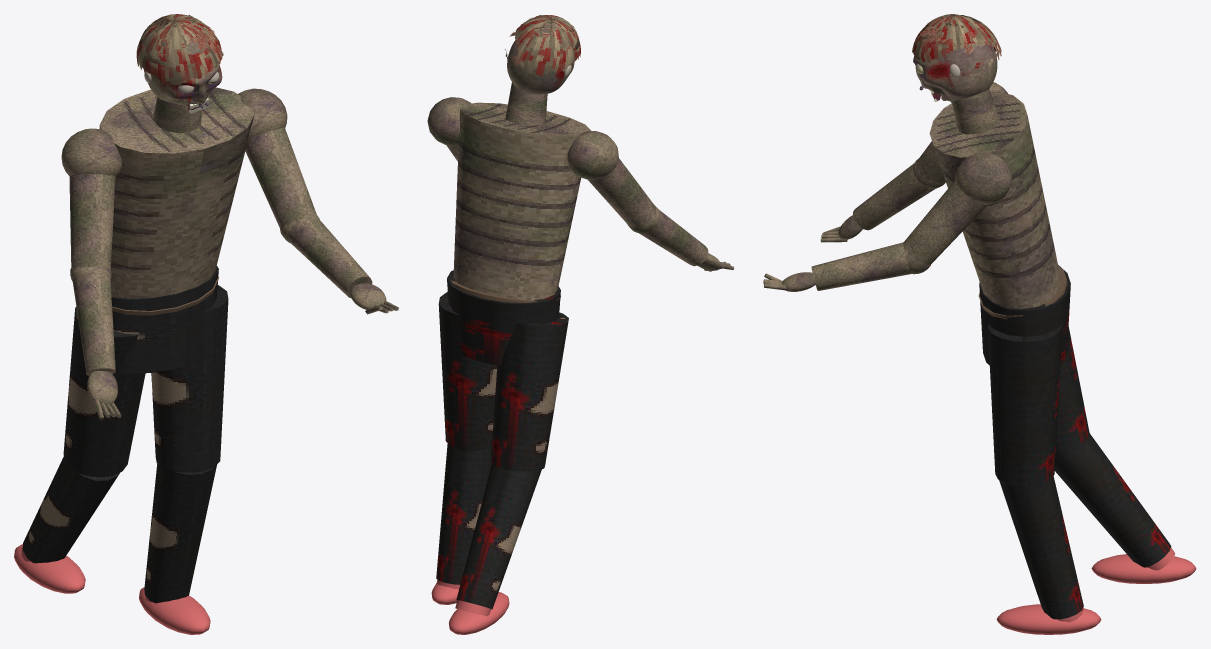
File: Zombie_150.glb
3 views of the same model, side by side, from view 1: azimuth 30°, elevation 25°; view 2: azimuth 150°, elevation 25°; view 3: azimuth 270°, elevation 25° (orthographic). The views are drawn at different scales.
Parts seen in each view (by area): view 1: Zombie_150, object 43, object 3, object 10, object 16, object 4, object 11; view 2: Zombie_150, object 43, object 3, object 16; view 3: Zombie_150, object 16, object 10, object 3, object 43.
Boxes of the visible parts, x1,y1,x2,y2 form: Zombie_150: (14,87,317,634); object 43: (136,14,223,84); object 3: (72,274,115,375); object 10: (287,216,372,298); object 16: (143,24,222,106); object 4: (87,371,117,404); object 11: (350,283,386,309); Zombie_150: (427,82,656,634); object 43: (505,15,580,74); object 3: (639,209,708,266); object 16: (507,24,575,94); Zombie_150: (903,82,1196,634); object 16: (913,29,997,102); object 10: (811,242,911,290); object 3: (853,163,934,230); object 43: (912,14,1001,65).
Size of the model in its own units: 0.8283 by 1.91 by 1.26.
Materials: 16 (6 with a texture image).
